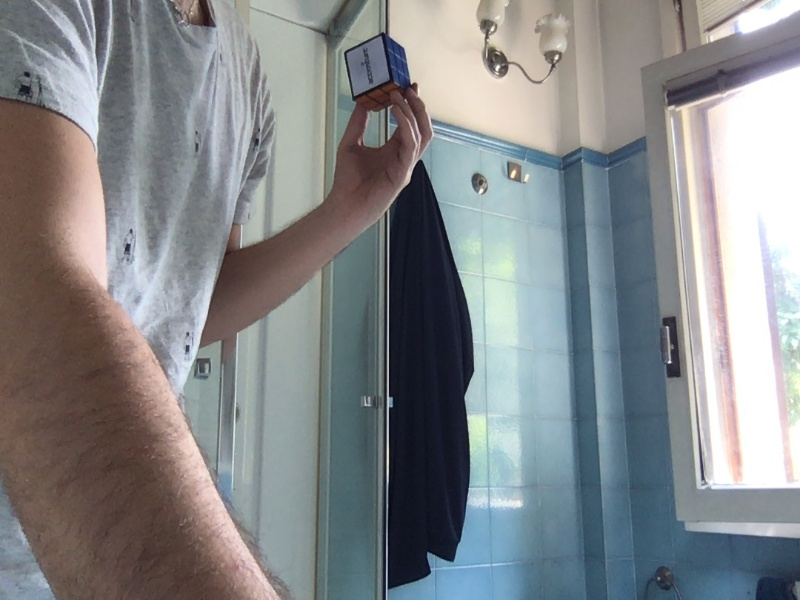rubik: (345, 33, 413, 115)
